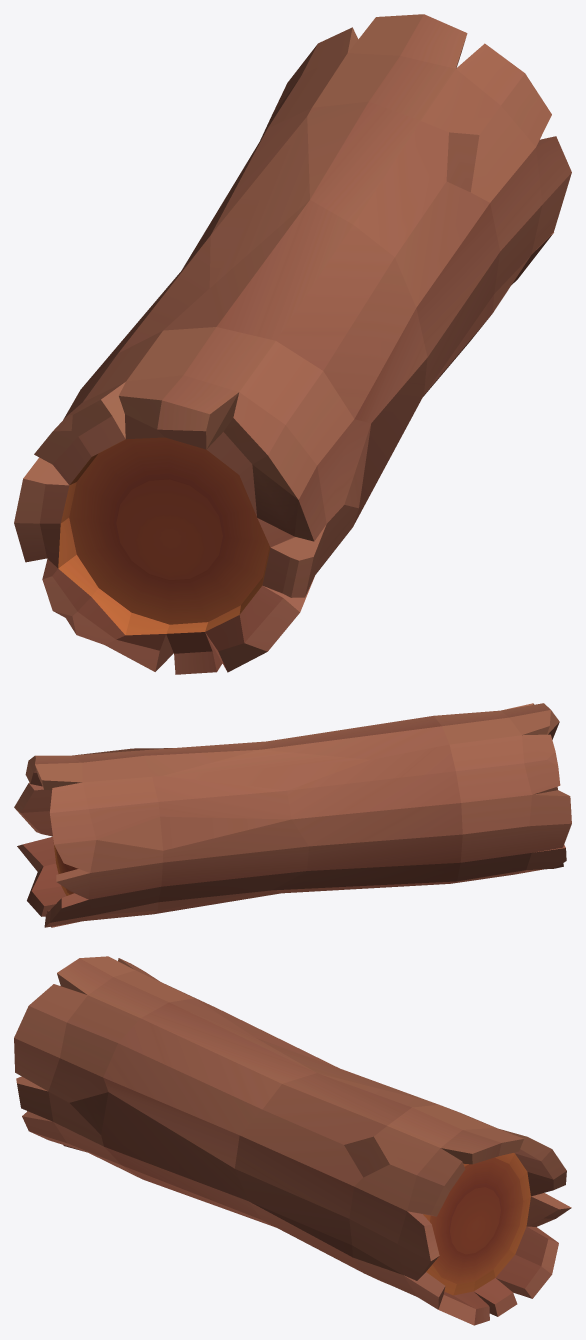
File: Madeira bruta cortada.fbx
3 views of the same model, one above another, from view 1: azimuth 30°, elevation 25°; view 2: azimuth 150°, elevation 25°; view 3: azimuth 270°, elevation 25° (orthographic). The views are drawn at different scales.
Visible parts, largest first — view 1: Madeira bruta.002; view 2: Madeira bruta.002; view 3: Madeira bruta.002.
Part boxes in pixels (x1,y1,x2,y2): Madeira bruta.002: (14,14,571,674); Madeira bruta.002: (14,703,571,927); Madeira bruta.002: (14,956,571,1325).
Size of the model in its own units: 187 by 65.13 by 182.
